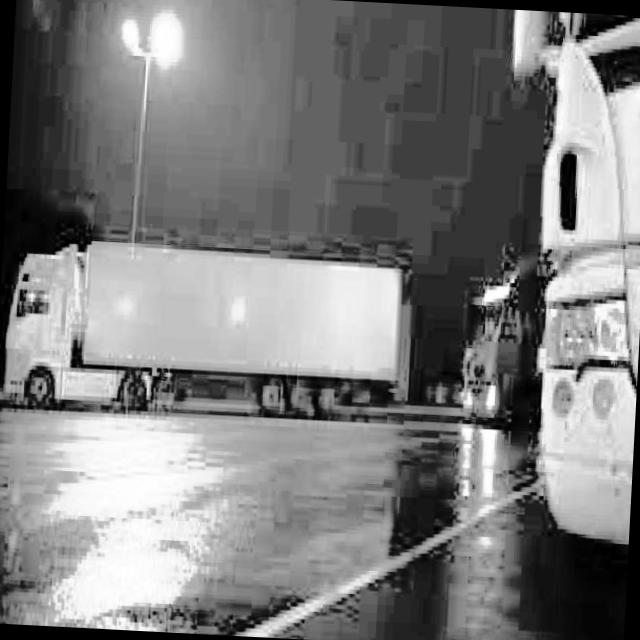Truck: (0, 232, 418, 429)
